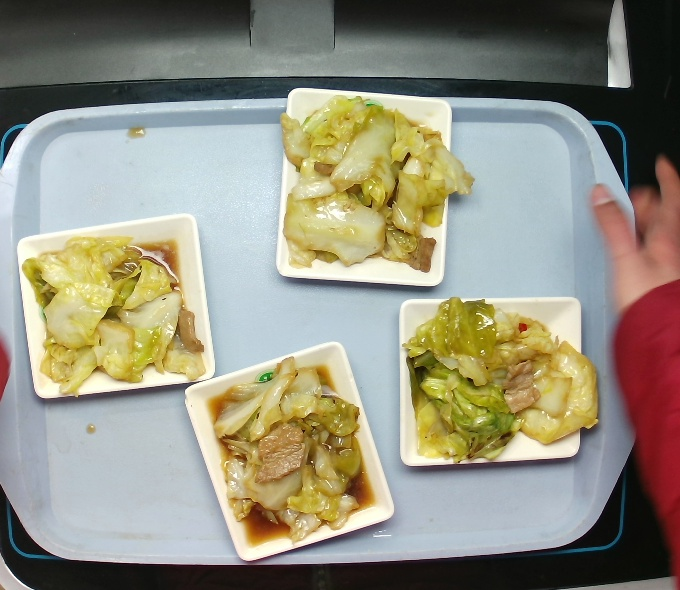wcq-JuanXinCaiChaoRou: (266, 87, 472, 275), (393, 290, 605, 464), (196, 349, 379, 548), (19, 225, 213, 400)
